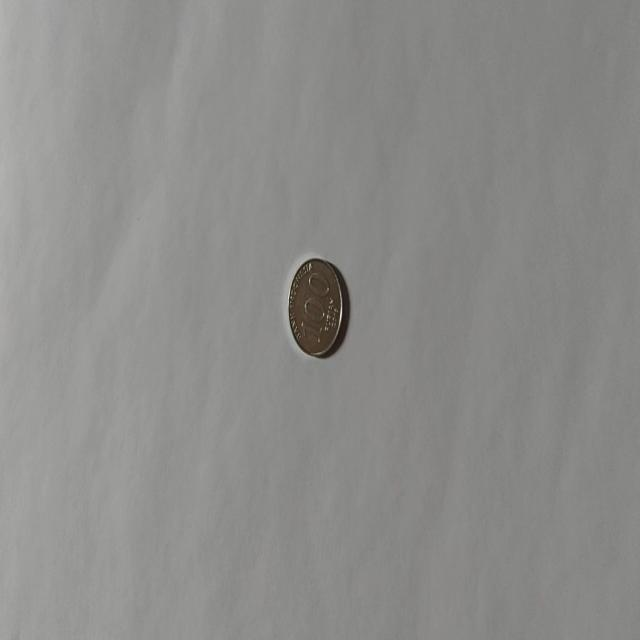seratus rupiah: (286, 255, 344, 358)
